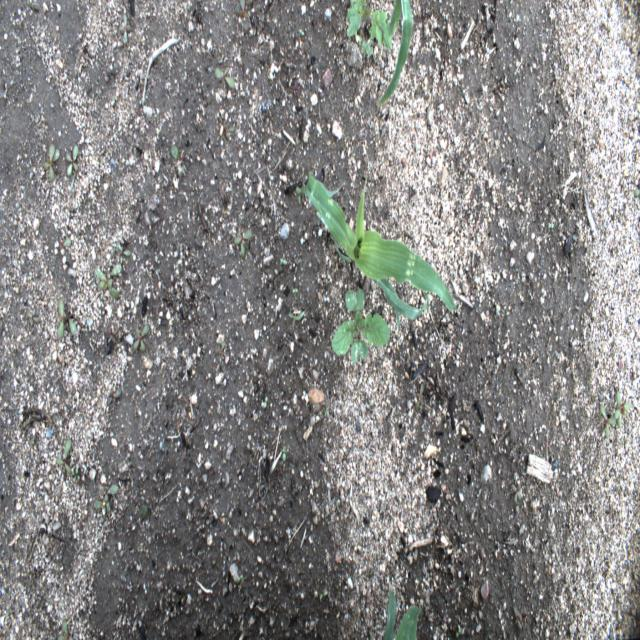crop: (302, 170, 459, 334), (380, 2, 413, 106), (380, 587, 420, 638)
weed: (331, 284, 390, 368), (346, 1, 392, 59), (51, 432, 74, 479), (41, 139, 63, 187), (58, 296, 80, 342), (597, 398, 621, 439), (614, 388, 632, 436), (94, 264, 123, 292), (64, 142, 83, 182), (132, 318, 152, 353), (212, 62, 235, 90)
